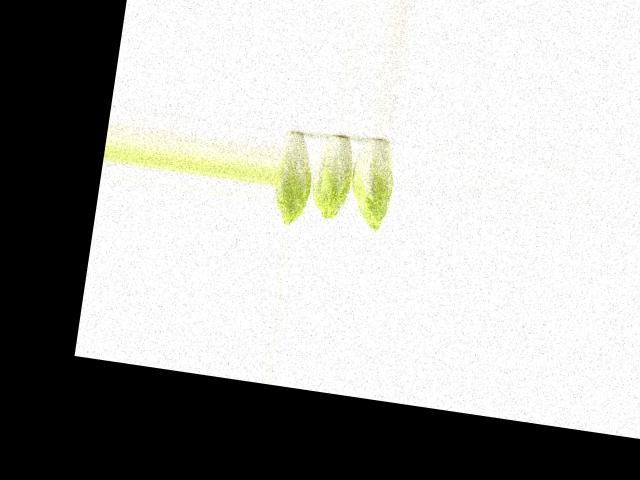lettuce: (346, 132, 400, 234)
